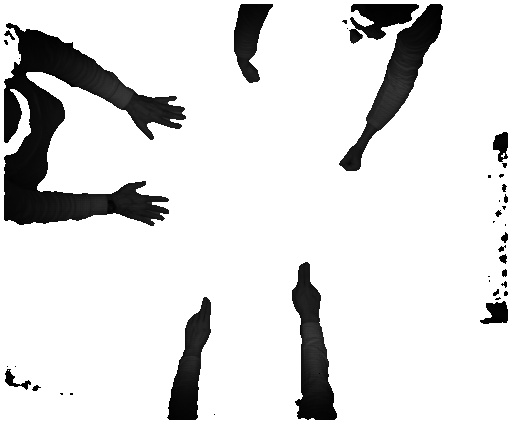fist: (336, 147, 365, 175), (238, 63, 263, 87)
hand: (115, 178, 175, 231), (132, 93, 191, 143), (288, 261, 327, 321), (177, 296, 215, 354)
